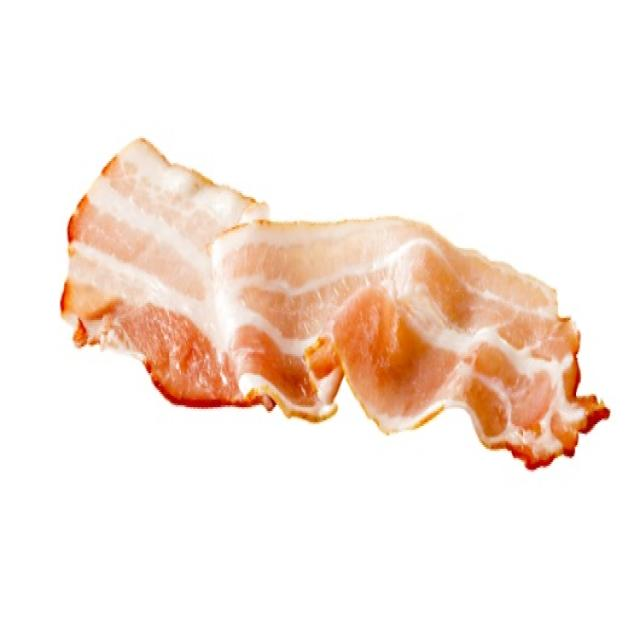bacon: (48, 112, 622, 482)
